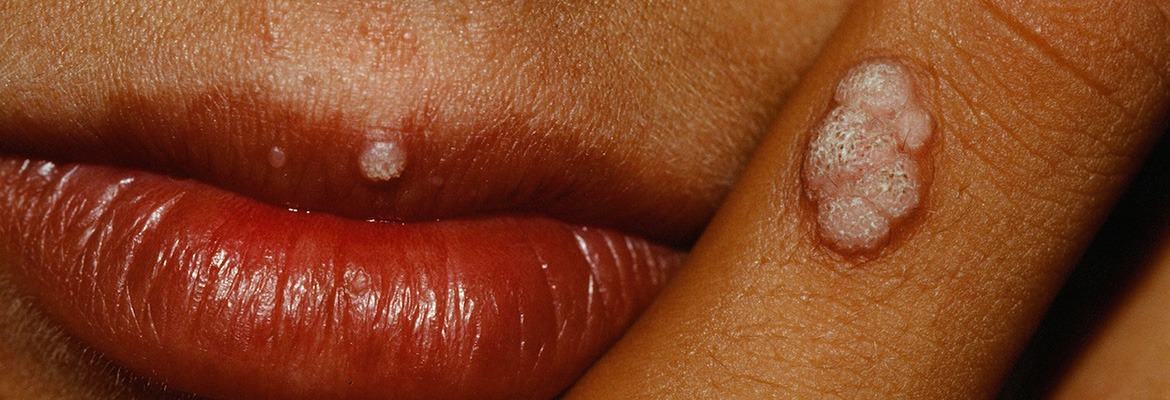Warts: (794, 25, 962, 278), (251, 116, 431, 191)
